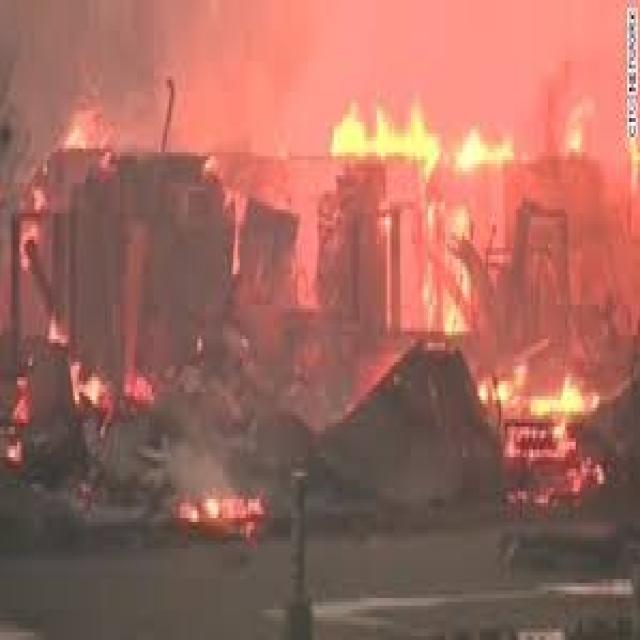Fire: (306, 90, 504, 156), (498, 424, 605, 524), (421, 194, 481, 338), (478, 356, 599, 426), (170, 488, 268, 545), (68, 362, 112, 417), (4, 362, 36, 426), (46, 302, 73, 348), (6, 437, 26, 467)
Smoke: (549, 94, 599, 162), (58, 105, 109, 154)
